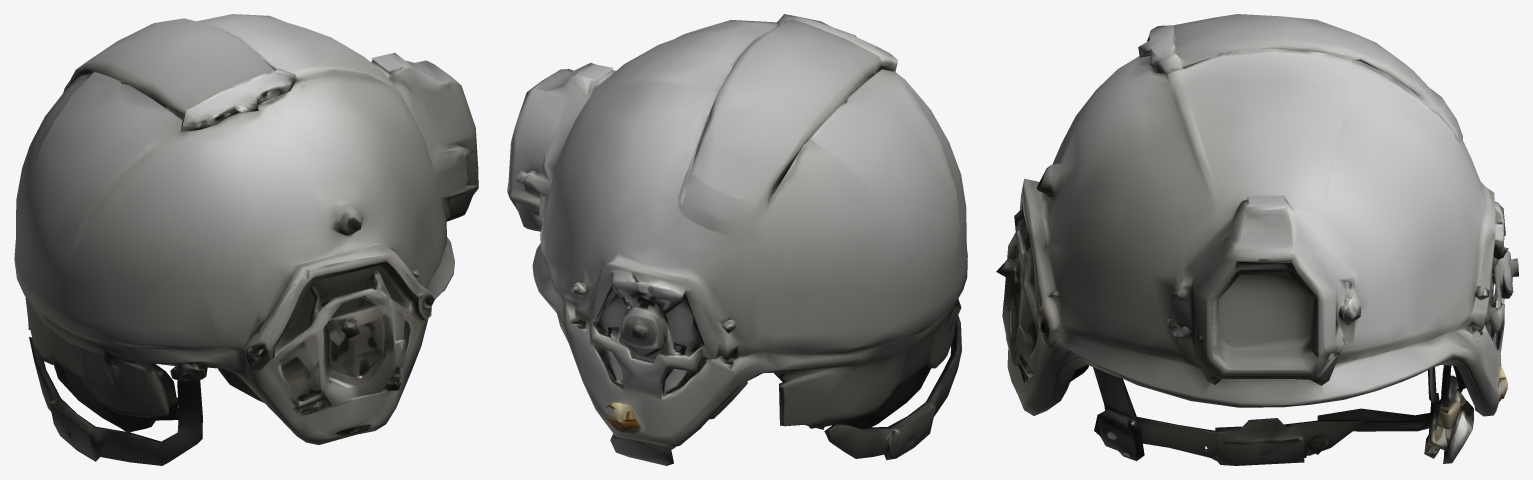
File: helmet_m.glb
3 renders of one model, left to right at view 1: azimuth 30°, elevation 25°; view 2: azimuth 150°, elevation 25°; view 3: azimuth 270°, elevation 25°, orthographic. The views are drawn at different scales.
Parts seen in each view (by area): view 1: tripo_node_d769d849-cebe-4de0-8a95-ea80cf298a04; view 2: tripo_node_d769d849-cebe-4de0-8a95-ea80cf298a04; view 3: tripo_node_d769d849-cebe-4de0-8a95-ea80cf298a04.
Part boxes in pixels (left/top/right/bottom): tripo_node_d769d849-cebe-4de0-8a95-ea80cf298a04: left=14, top=14, right=478, bottom=465; tripo_node_d769d849-cebe-4de0-8a95-ea80cf298a04: left=507, top=14, right=967, bottom=465; tripo_node_d769d849-cebe-4de0-8a95-ea80cf298a04: left=996, top=14, right=1518, bottom=465.
Size of the model in its own units: 0.96 by 0.8398 by 0.9793.
1 material, 1 textured.
